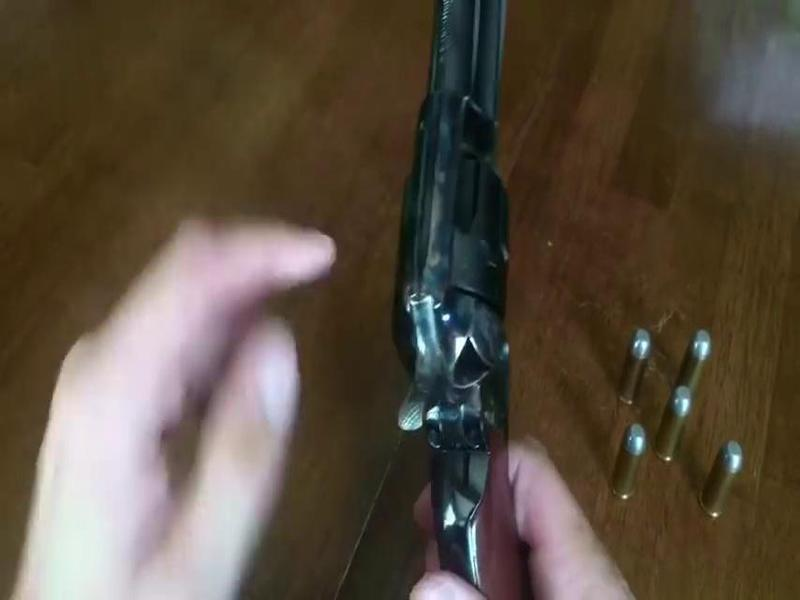Revolver: (375, 30, 615, 600)
